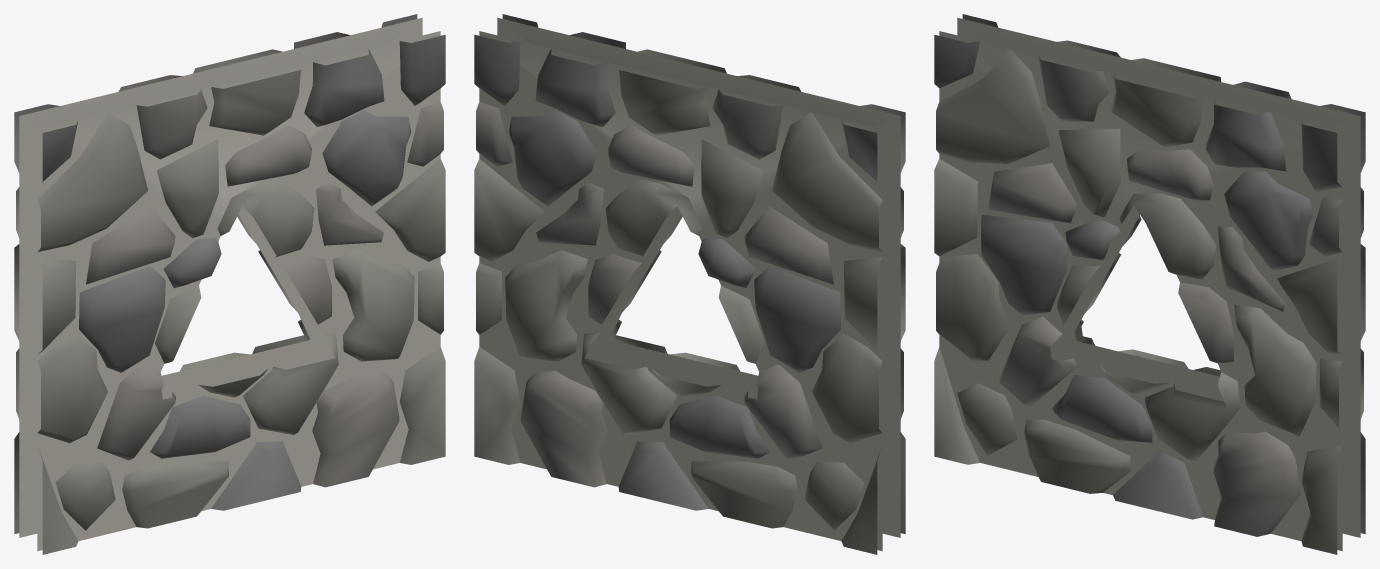
The model's file is rpgpp_ag_wall_04_3x3_window_05a.fbx.
The picture shows the model from 3 angles, left to right: view 1: azimuth 30°, elevation 25°; view 2: azimuth 150°, elevation 25°; view 3: azimuth 330°, elevation 25°; orthographic projection.
Parts seen in each view (by area): view 1: rpgpp_ag_wall_04_3x3_window_05a; view 2: rpgpp_ag_wall_04_3x3_window_05a; view 3: rpgpp_ag_wall_04_3x3_window_05a.
Boxes of the visible parts, x1,y1,x2,y2 form: rpgpp_ag_wall_04_3x3_window_05a: (14,14,445,554); rpgpp_ag_wall_04_3x3_window_05a: (474,14,905,554); rpgpp_ag_wall_04_3x3_window_05a: (934,14,1365,554).
Bounding box in the file's own units: 3 × 3 × 0.404.
